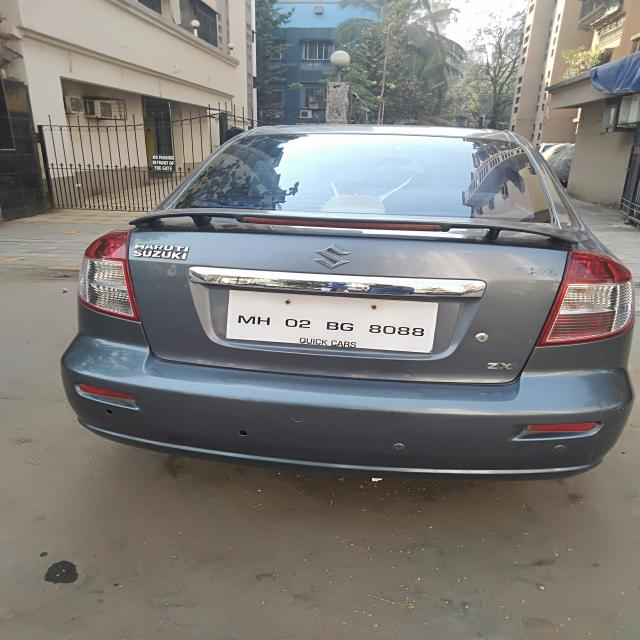Number-Plate: (229, 295, 434, 348)
